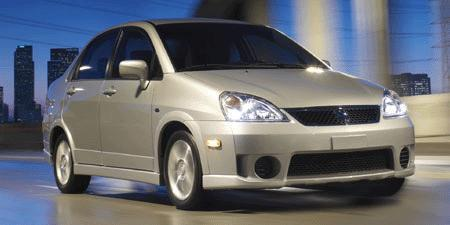Car: (23, 7, 442, 215)
